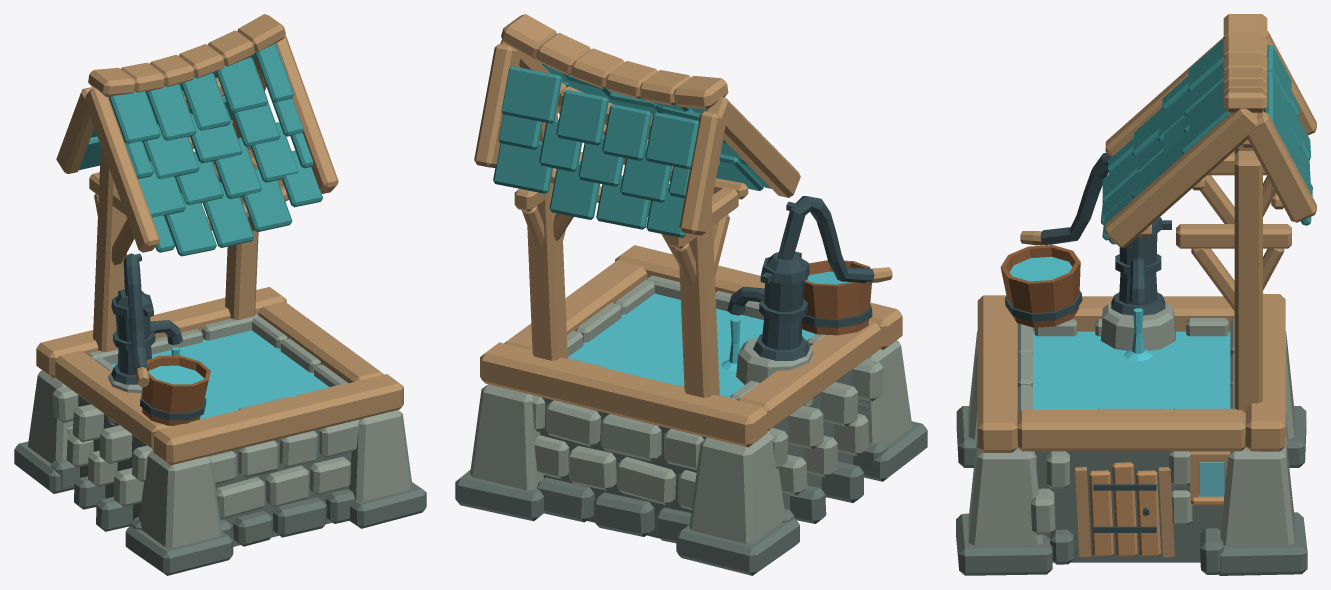
File: water-point-complete.glb
3 views of the same model, side by side, from view 1: azimuth 30°, elevation 25°; view 2: azimuth 150°, elevation 25°; view 3: azimuth 270°, elevation 25° (orthographic). The views are drawn at different scales.
Parts seen in each view (by area): view 1: roof_planks, rim_band, frame_timber, stones_wall, pillars, stones_bottom, water, ridge_board, pump, rim_coping, bucket, basin_core (+1 smaller); view 2: roof_planks, rim_band, frame_timber, stones_wall, pillars, stones_bottom, water, pump, ridge_board, rim_coping, basin_core, bucket (+2 smaller); view 3: frame_timber, rim_band, water, pillars, roof_planks, stones_bottom, basin_core, door, pump, ridge_board, bucket, rim_coping (+7 smaller).
Part boxes in pixels (x1,y1,x2,y2): roof_planks: (79, 44, 322, 256); rim_band: (36, 287, 403, 465); frame_timber: (56, 34, 338, 351); stones_wall: (52, 387, 359, 519); pillars: (27, 370, 412, 547); stones_bottom: (14, 441, 426, 575); water: (112, 330, 328, 419); ridge_board: (88, 14, 285, 96); pump: (111, 253, 182, 384); rim_coping: (88, 314, 348, 409); bucket: (142, 355, 210, 425); basin_core: (78, 395, 351, 546); roof_planks: (493, 63, 771, 237); rim_band: (480, 245, 902, 447); frame_timber: (474, 39, 800, 397); stones_wall: (532, 359, 883, 509); pillars: (470, 340, 912, 543); stones_bottom: (455, 421, 927, 575); water: (568, 271, 850, 396); pump: (727, 196, 874, 360); ridge_board: (501, 14, 728, 109); rim_coping: (567, 275, 825, 399); basin_core: (540, 369, 859, 538); bucket: (802, 260, 871, 335); frame_timber: (1105, 31, 1316, 412); rim_band: (977, 293, 1285, 452); water: (1009, 256, 1230, 409); pillars: (968, 331, 1294, 545); roof_planks: (1101, 39, 1312, 244); stones_bottom: (956, 406, 1307, 575); basin_core: (1034, 451, 1225, 562); door: (1089, 462, 1223, 556); pump: (1040, 152, 1171, 315); ridge_board: (1223, 14, 1267, 112); bucket: (1000, 245, 1080, 327); rim_coping: (1017, 318, 1245, 413).
Size of the model in its own units: 2.12 by 3.09 by 2.16.
